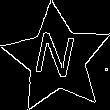N_S: (32, 30, 81, 88)
